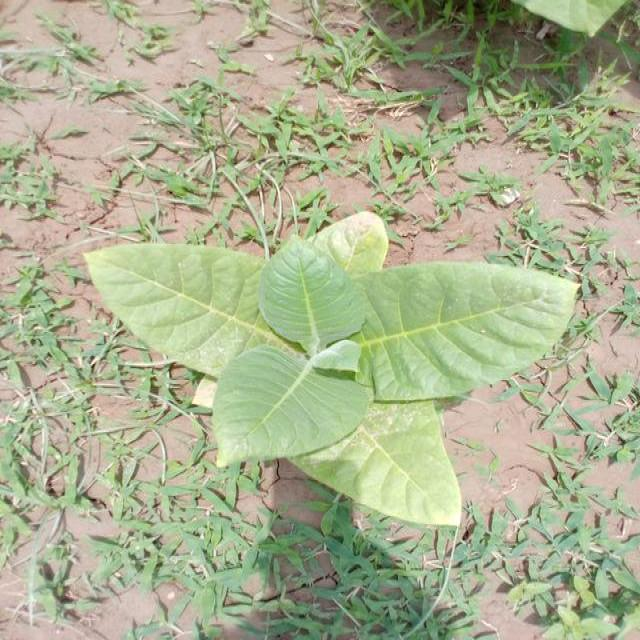crop: (96, 232, 593, 524)
